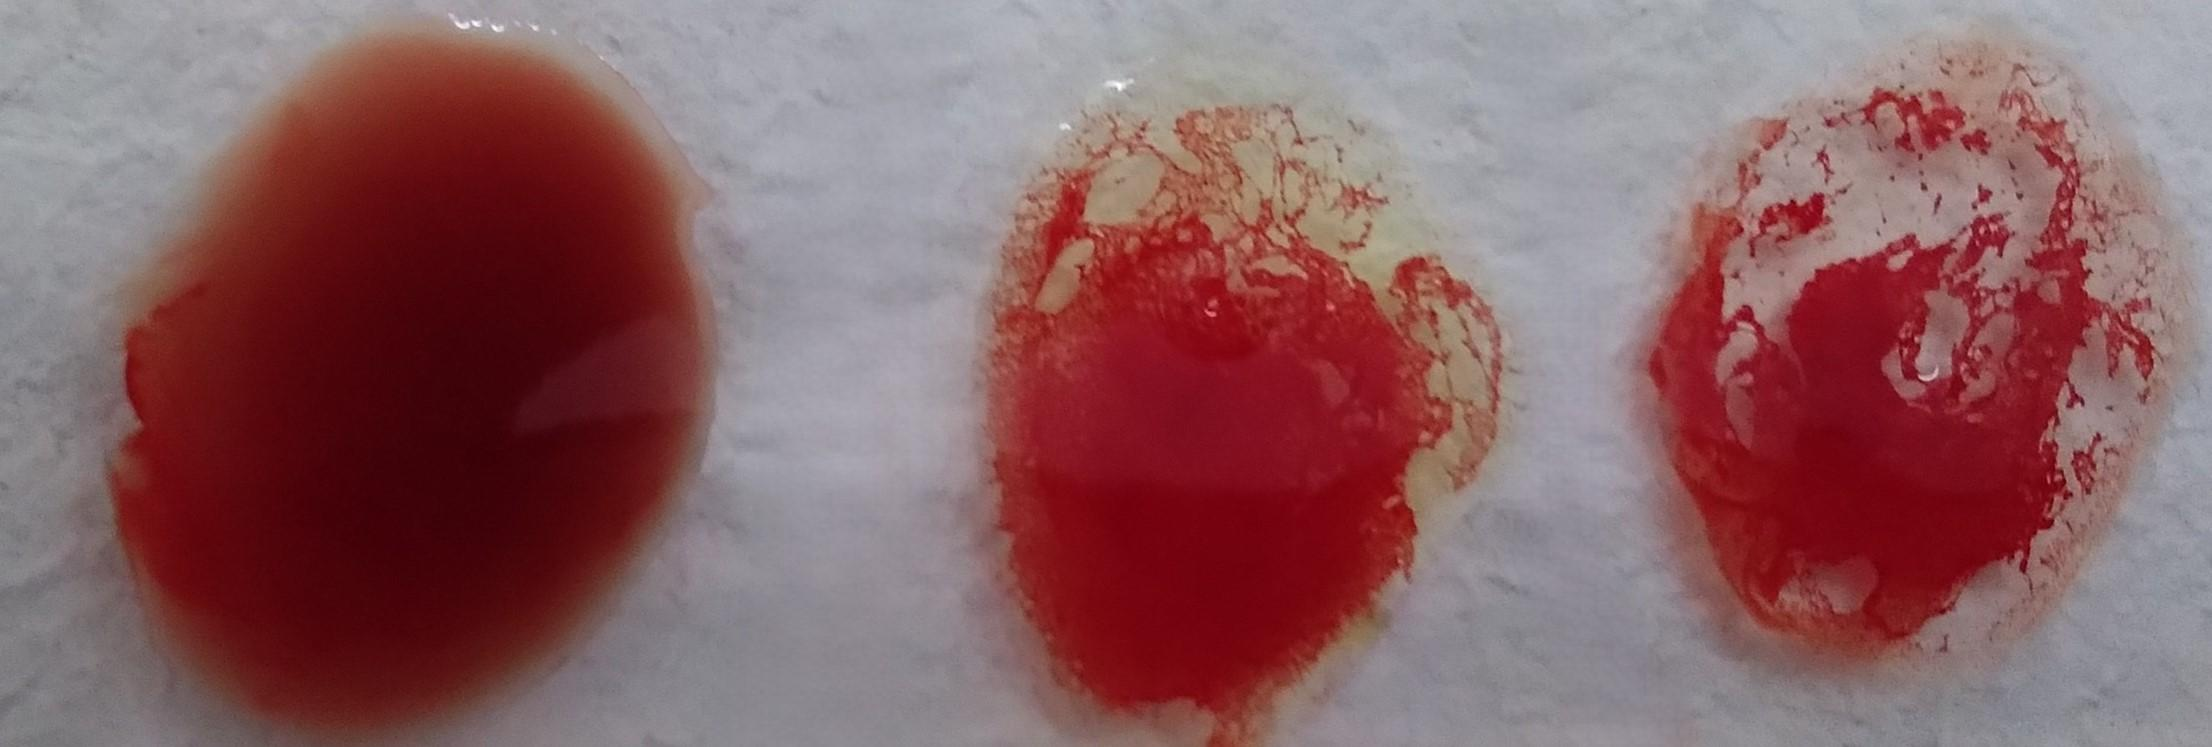B: (999, 75, 1471, 744)
D: (1656, 65, 2170, 698)
